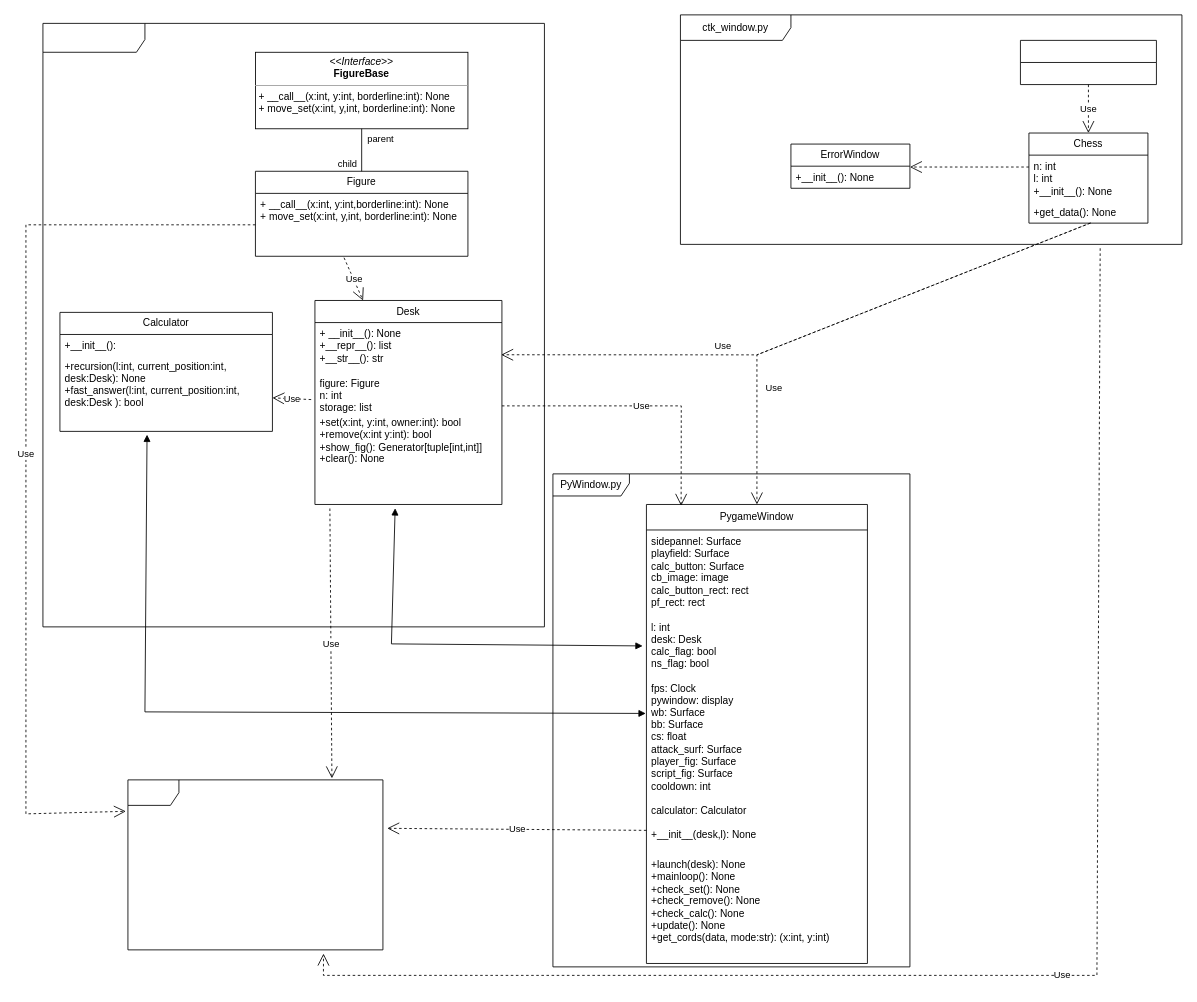
The diagram is 1197 pixels wide and 1002 high, and some of its shapes have lost their labels. The shapes that lost their labels are listed below. From the top down, each one's centre as x and y in pixels, then its label:
pixel 1088 62: NLError(BaseException)
pixel 293 325: chess_module.py
pixel 255 864: main.py
